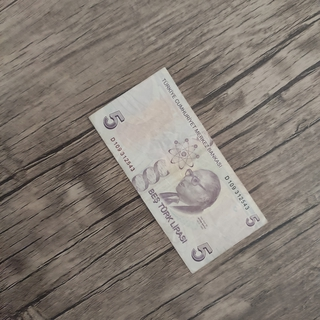5TLBack: (86, 66, 269, 275)
